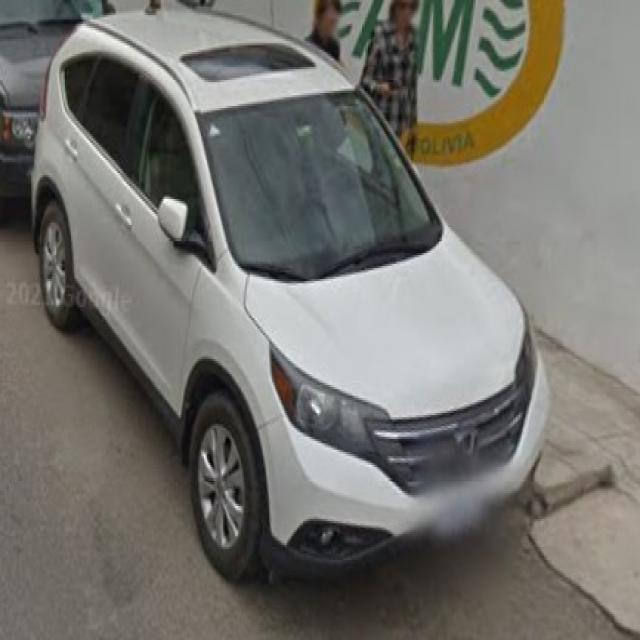cars: (26, 5, 540, 584)
